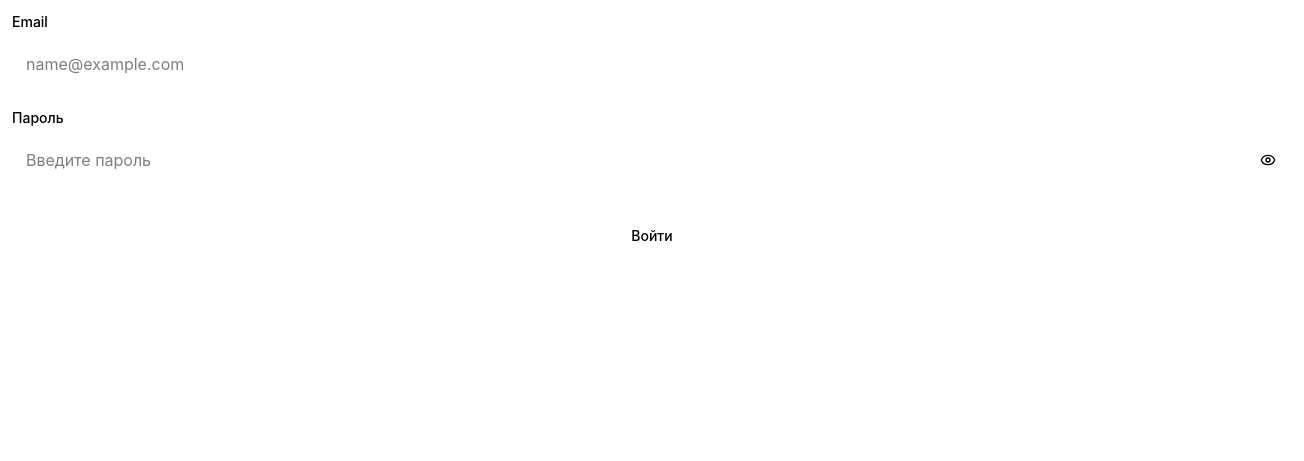
Test: LoginForm › keeps the second factor hidden until the server requests it
Expected: the field labelled "Код подтверждения" is not shown
Type "person@example.test" into the field labelled "Email" at x=652, y=64, box 12,40 -> 1292,88
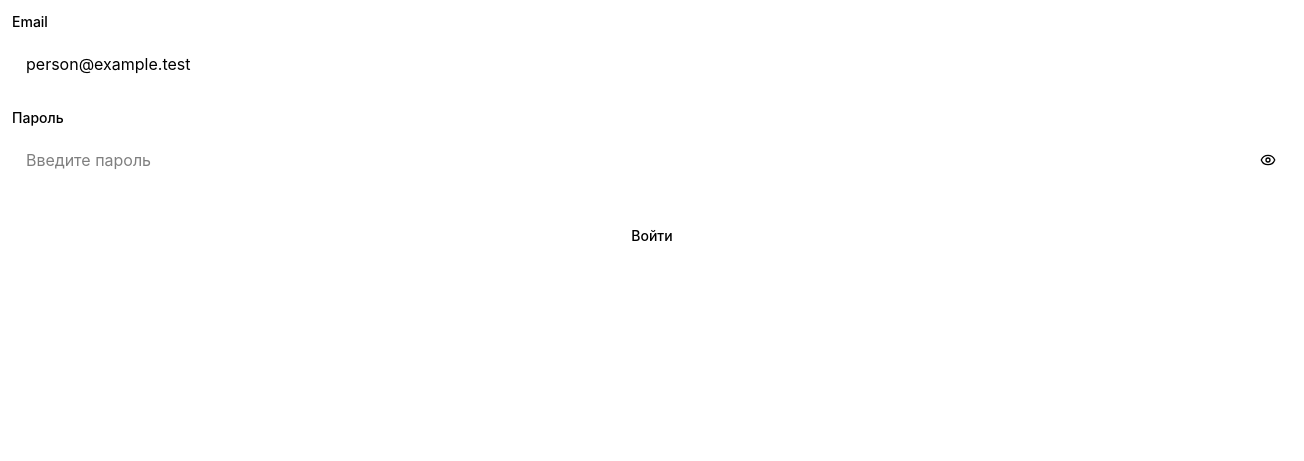
Type "correct-horse-battery-staple" into the password field labelled "Пароль" at x=652, y=160, box 12,136 -> 1292,184
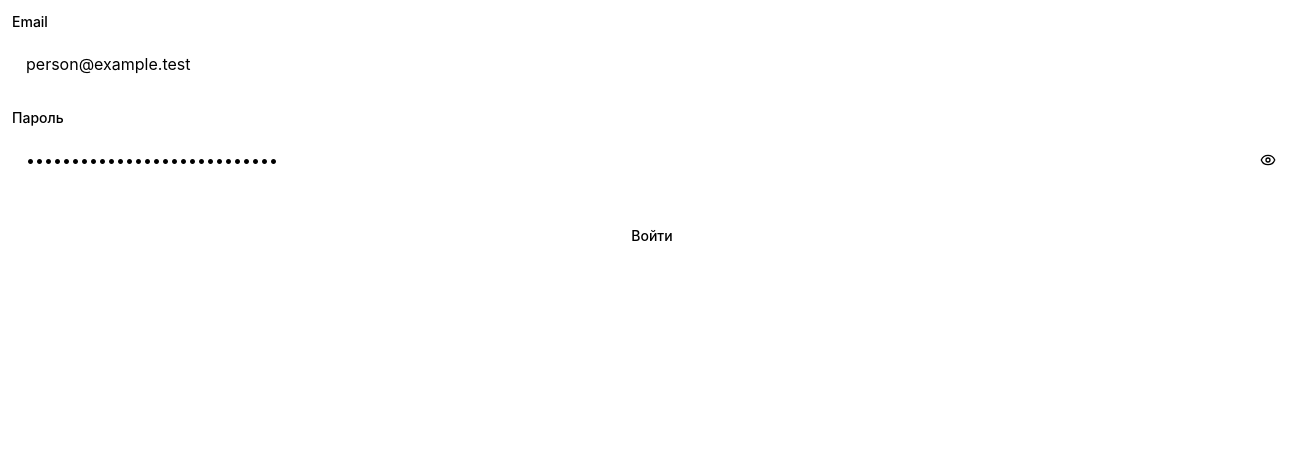
Click the button "Войти" at x=652, y=236, box 12,212 -> 1292,260
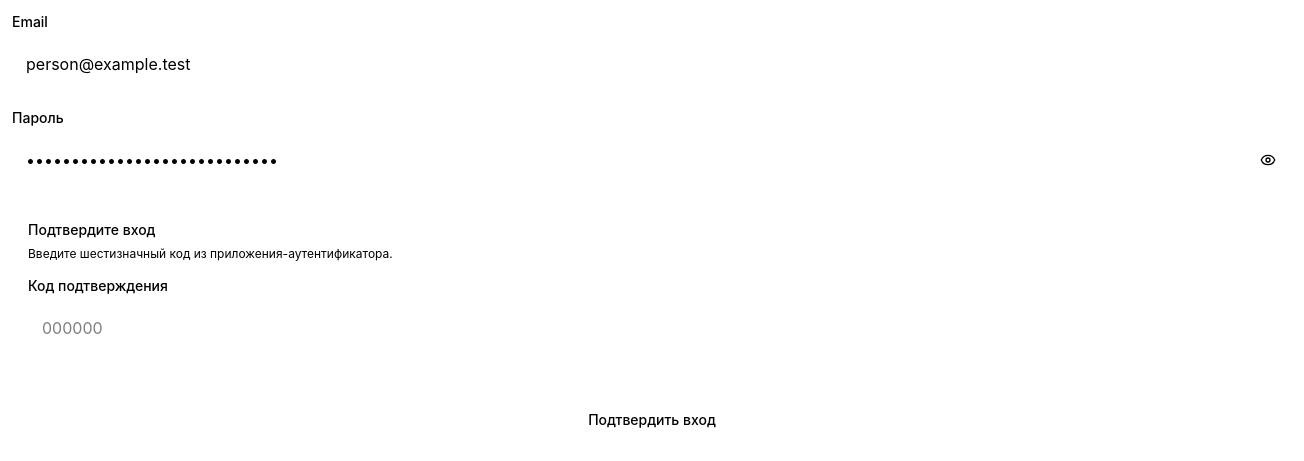
Result: the field labelled "Код подтверждения" is shown at 28,304 -> 1276,352
Result: the button "Подтвердить вход" is disabled at 12,396 -> 1292,444
